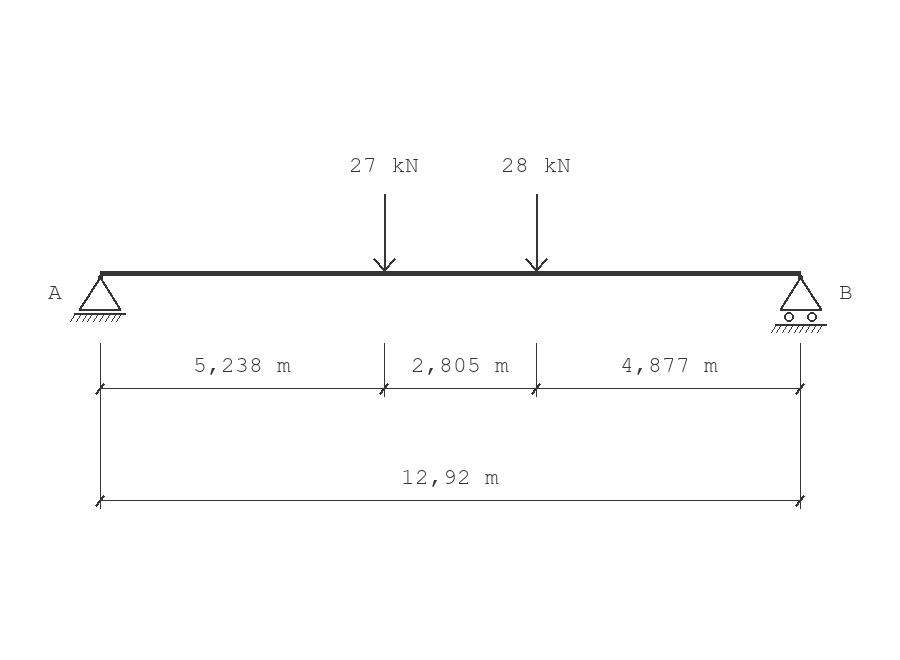pin_support: (70, 275, 126, 322)
point_load: (373, 194, 396, 272), (525, 194, 548, 272)
roller_support: (771, 275, 827, 333)
